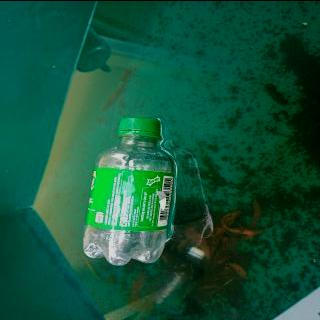bottle: (78, 114, 176, 268)
